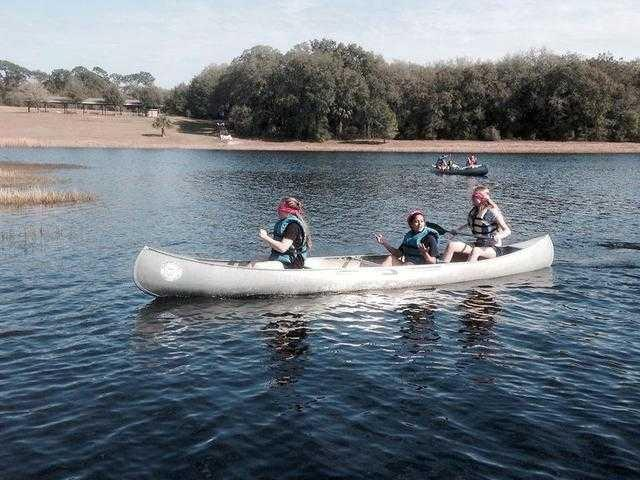kayak: (132, 234, 553, 299), (432, 156, 489, 176)
